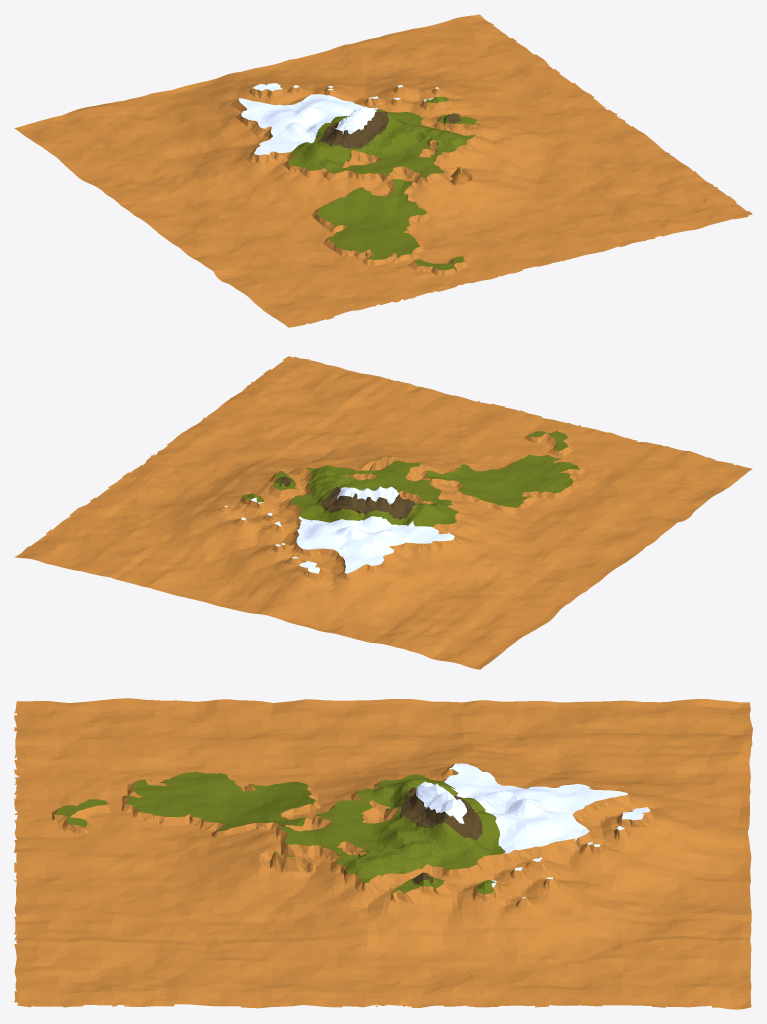
The model's file is Continent.FBX.
The picture shows the model from 3 angles, top to bottom: view 1: azimuth 30°, elevation 25°; view 2: azimuth 150°, elevation 25°; view 3: azimuth 270°, elevation 25°; orthographic projection. The views are drawn at different scales.
Parts seen in each view (by area): view 1: Plane; view 2: Plane; view 3: Plane.
Part boxes in pixels (x1,y1,x2,y2): Plane: (14,14,752,327); Plane: (14,356,752,669); Plane: (14,698,752,1009).
Size of the model in its own units: 6729 by 649 by 6869.
